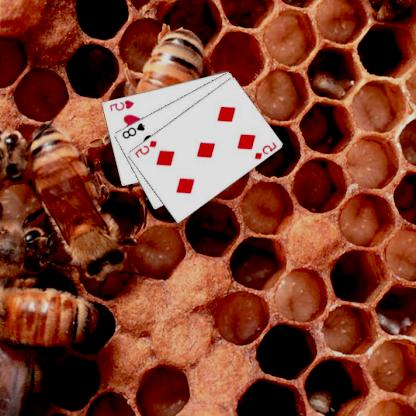5D: (253, 139, 279, 161), (134, 138, 159, 159)
5H: (108, 97, 136, 112)
8S: (121, 120, 148, 140)
